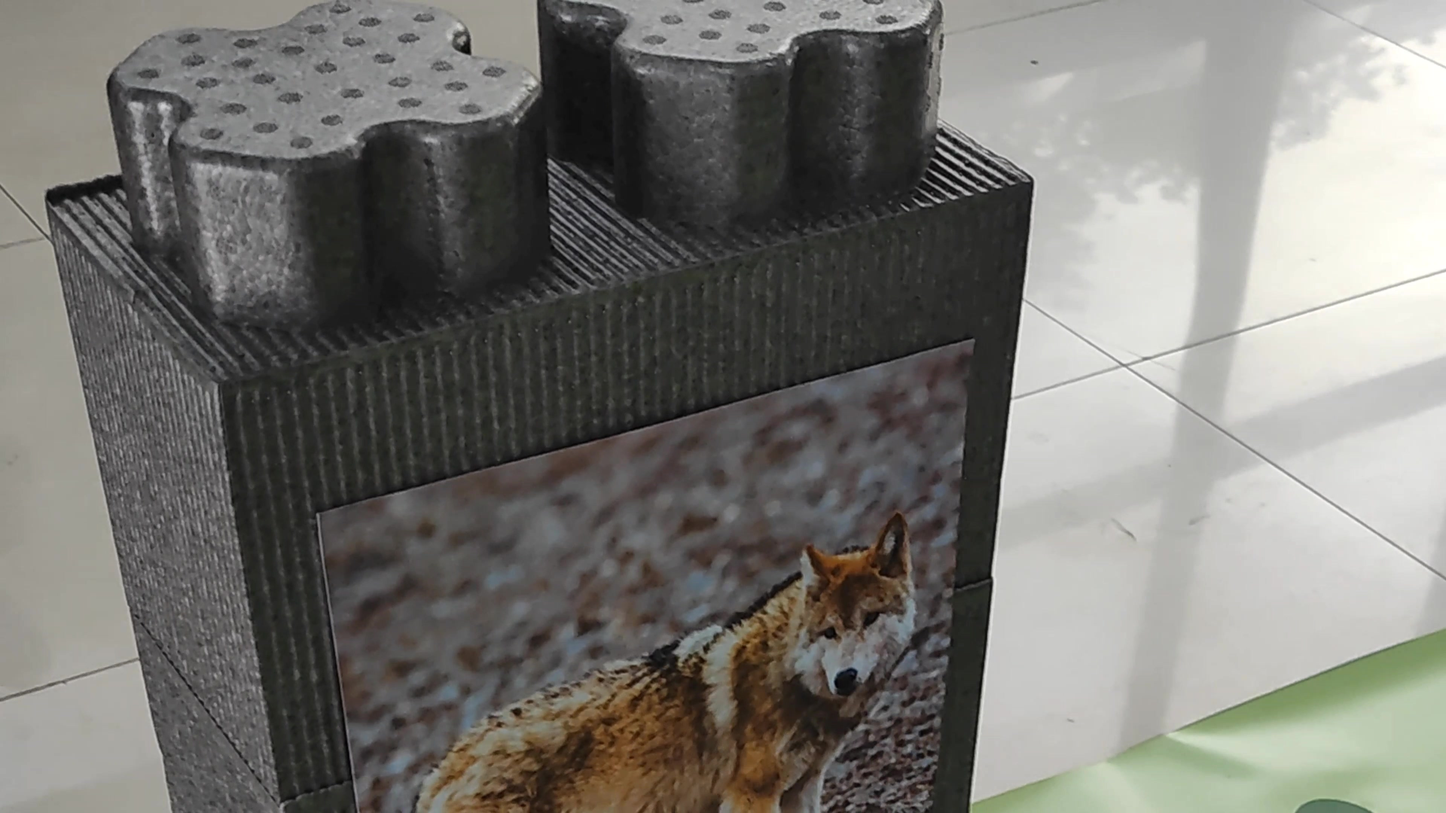wolf: (369, 494, 926, 813)
